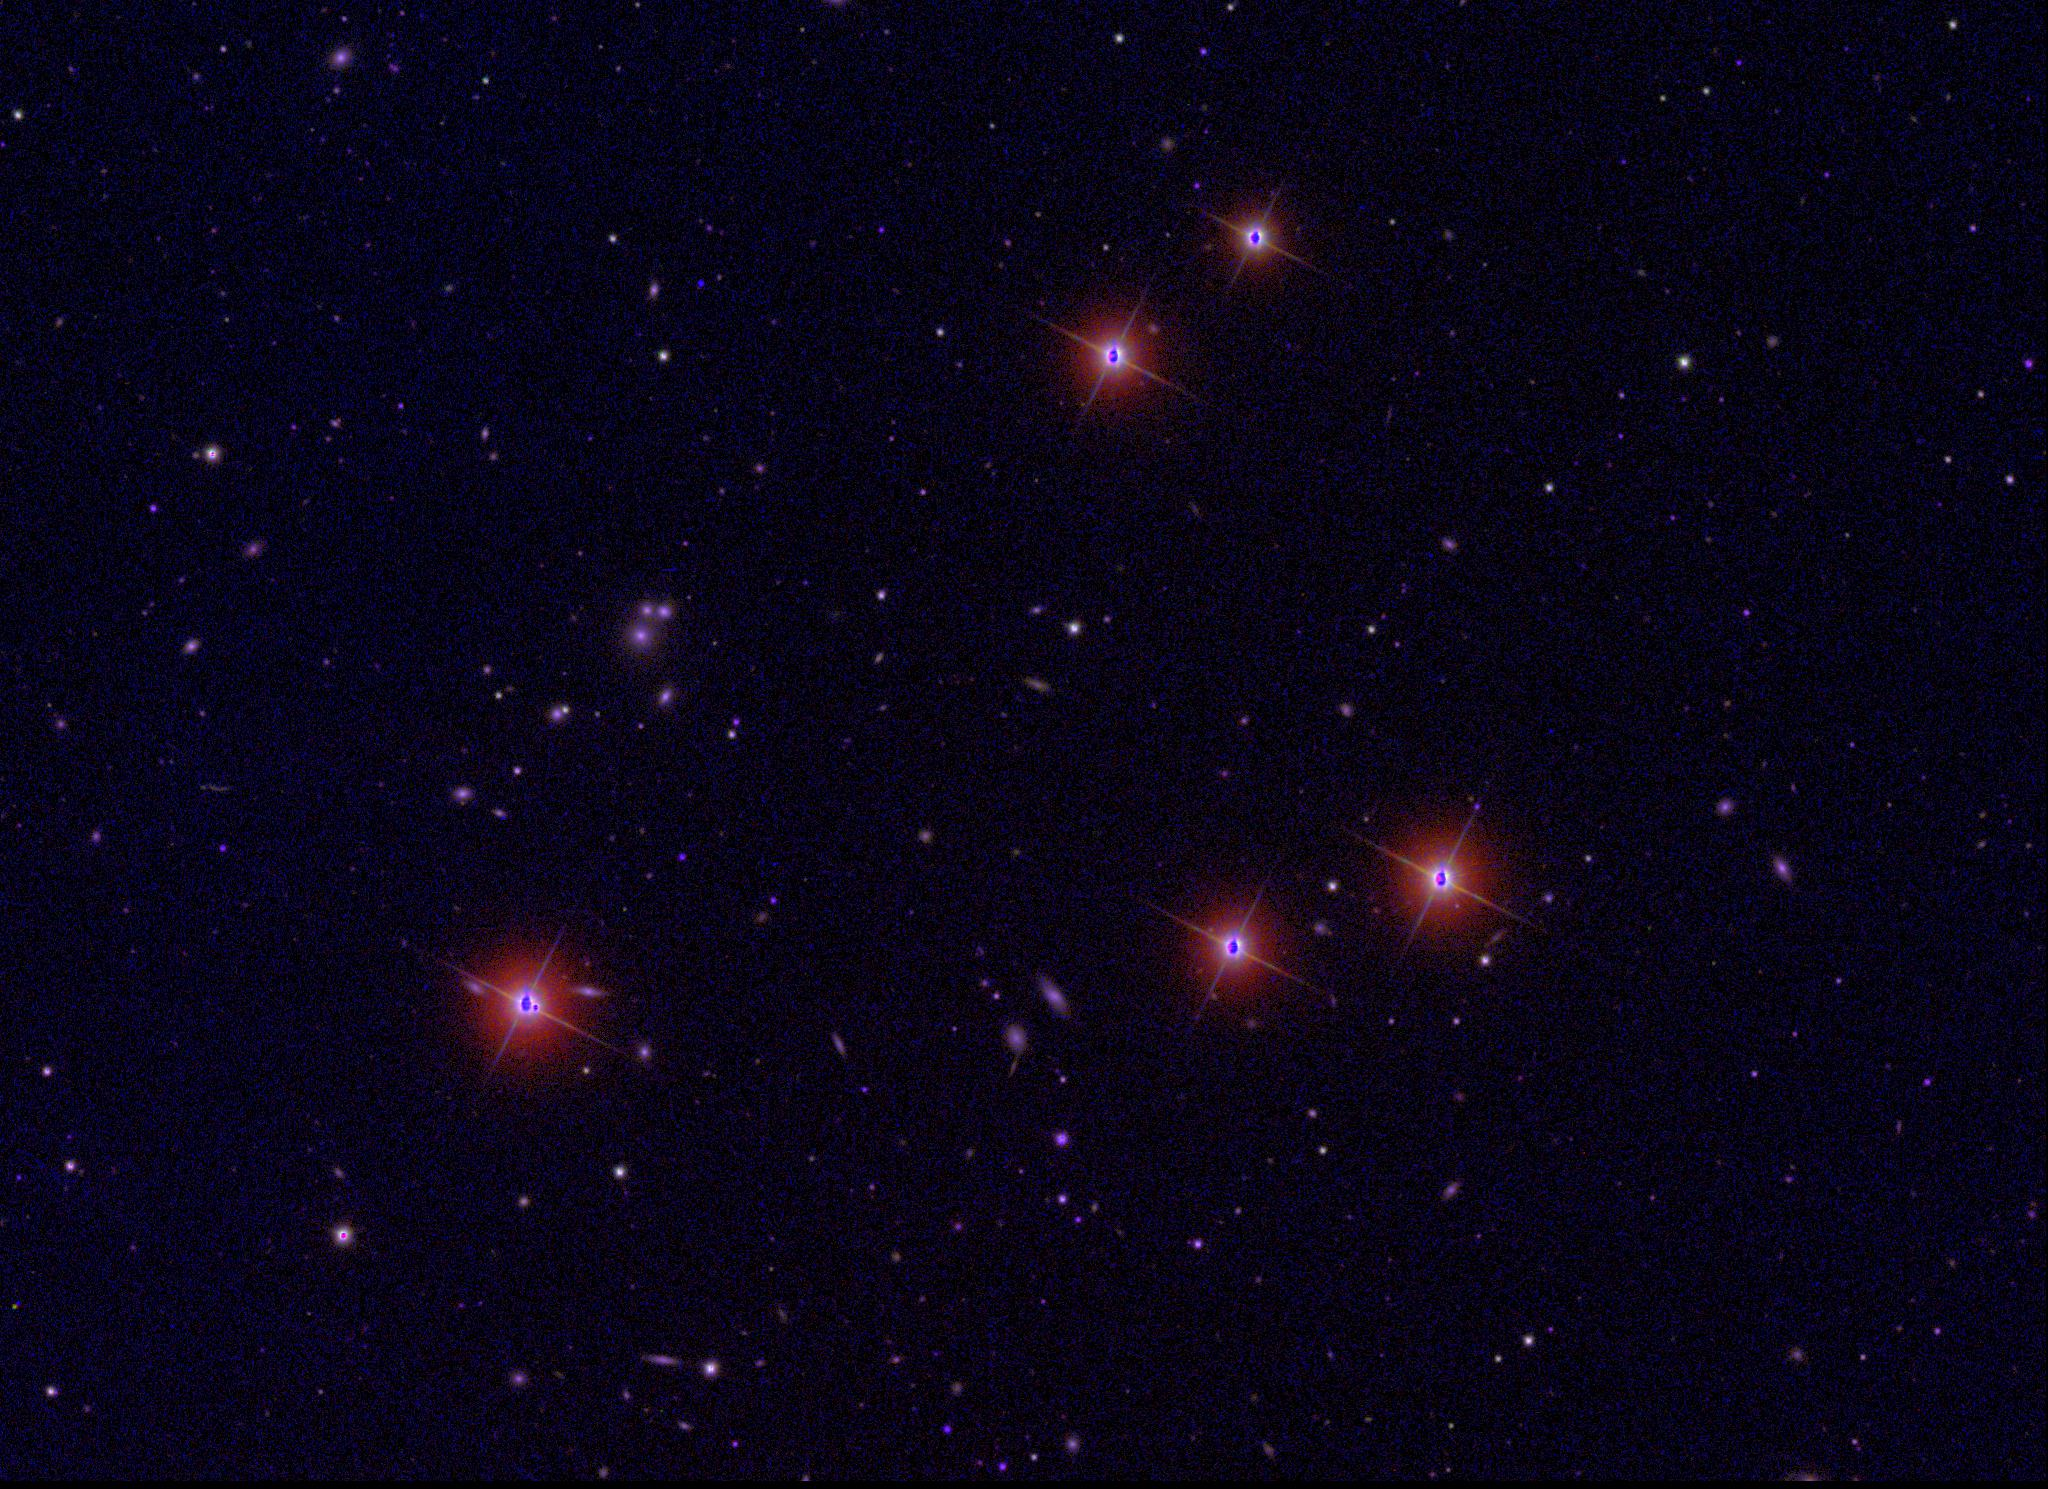L: (693, 275, 708, 290)
